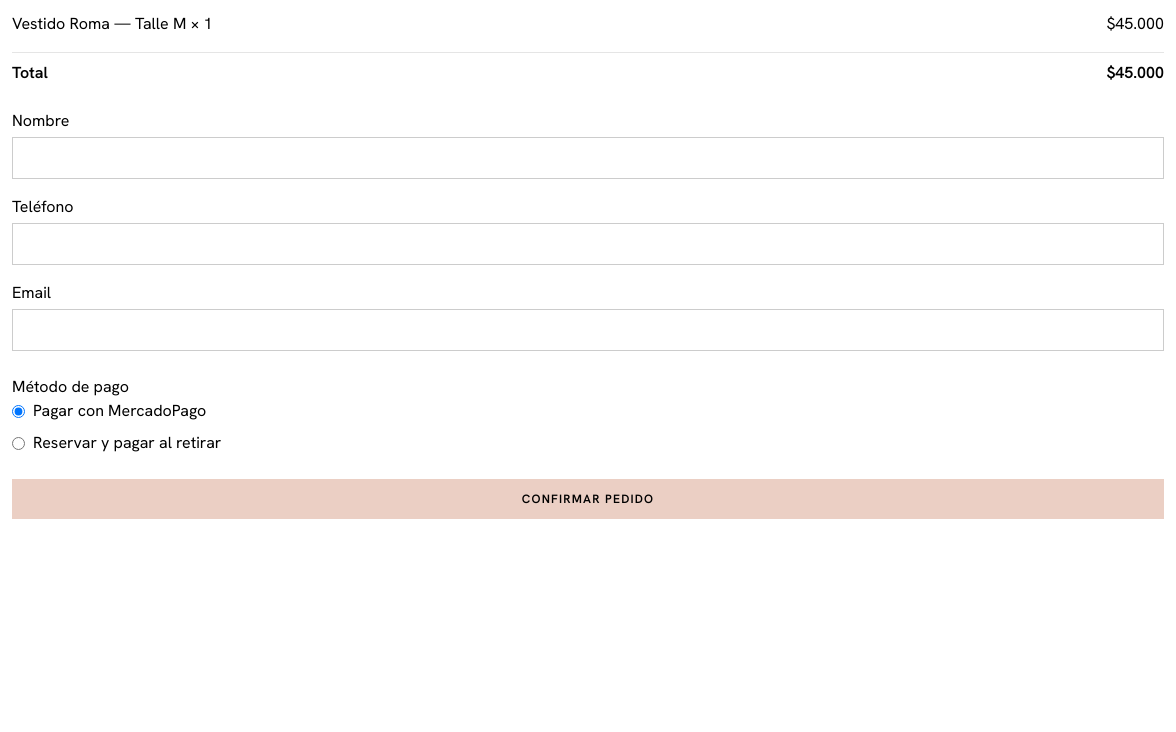
Scenario: CheckoutForm › shows the generic body.message when no returned variantId matches a known line
Type "Ana Pérez" into the field labelled "Nombre".
click(588, 158); type("Ana Pérez")  # box [12, 137, 1164, 179]
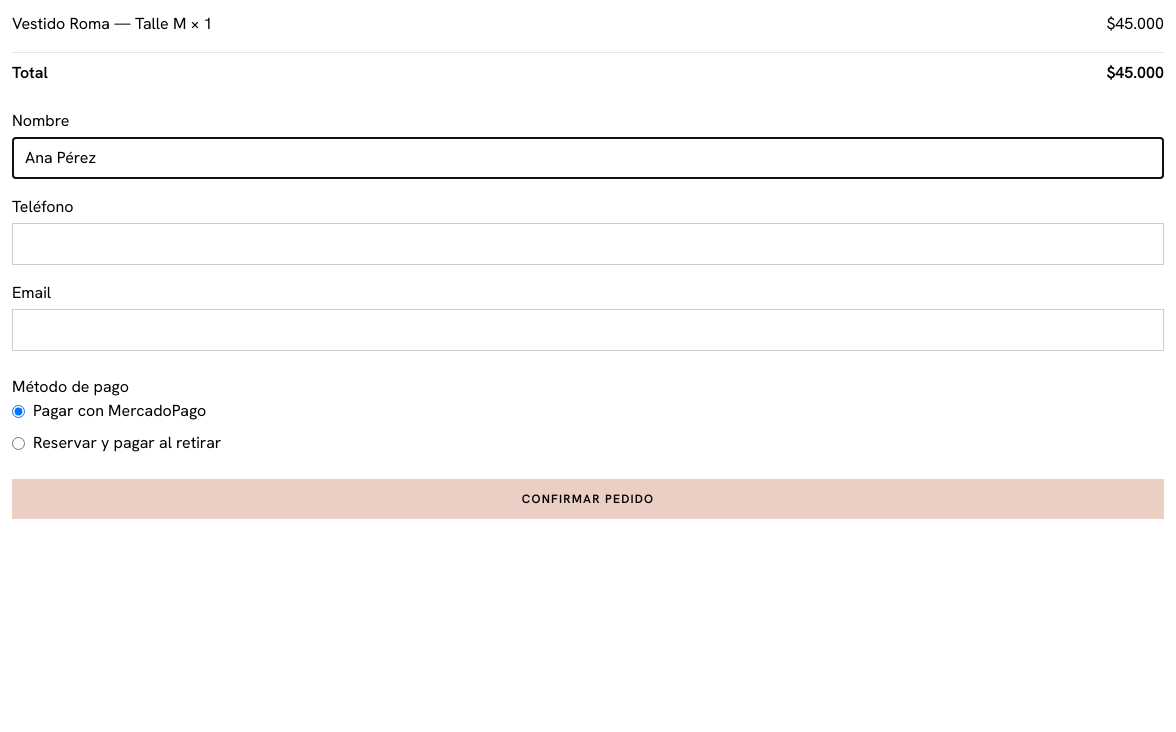
Type "3815551234" into the field labelled "Teléfono".
click(588, 244); type("3815551234")  # box [12, 223, 1164, 265]
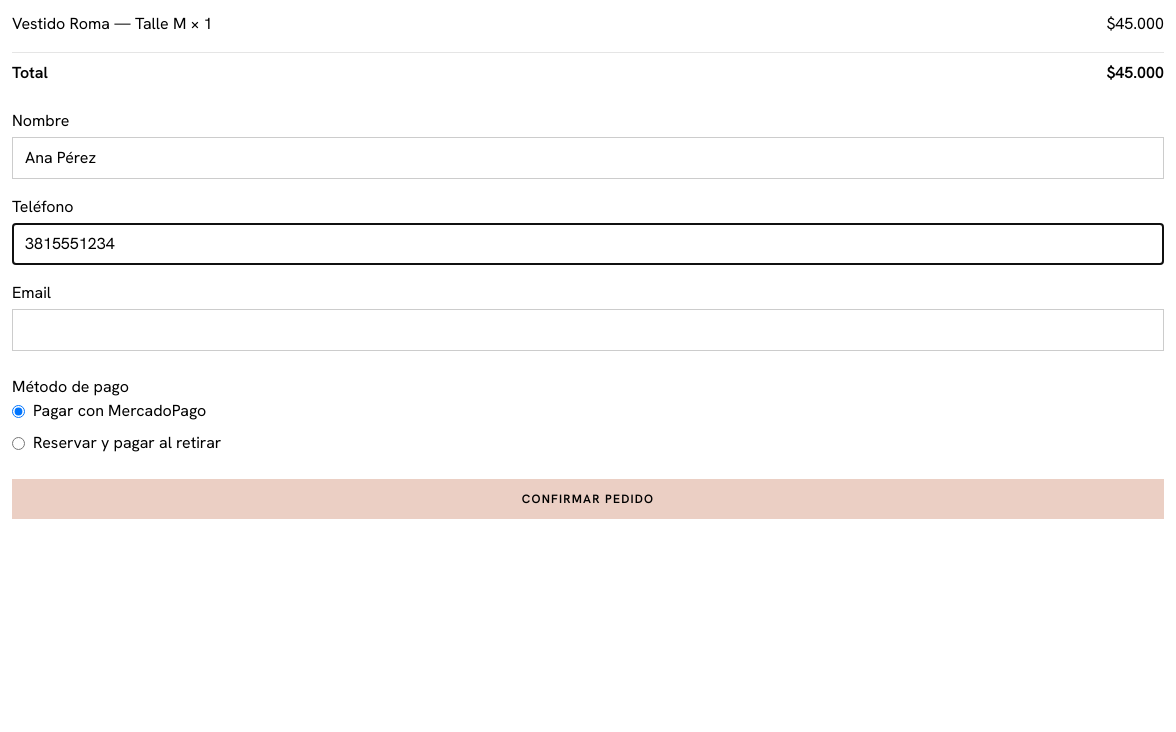
Type "ana@example.com" into the field labelled "Email".
click(588, 330); type("ana@example.com")  # box [12, 309, 1164, 351]
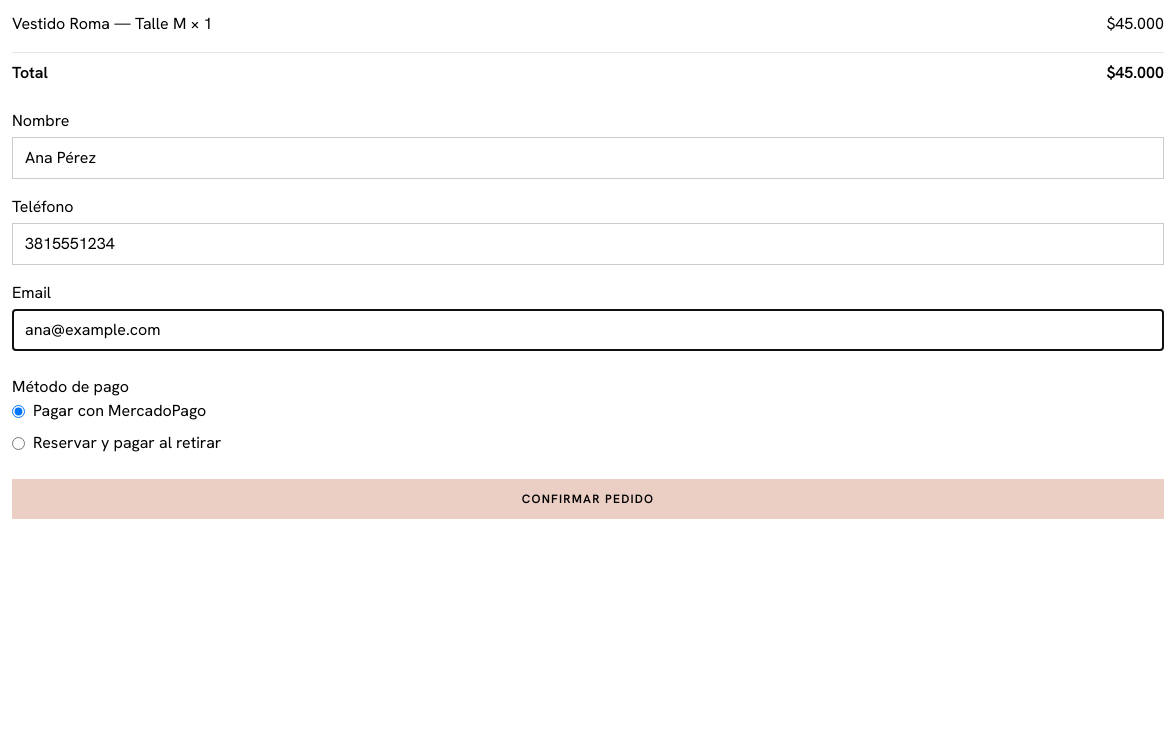
Click the radio button labelled "Pagar con MercadoPago".
click(18, 411)  # box [12, 404, 25, 418]
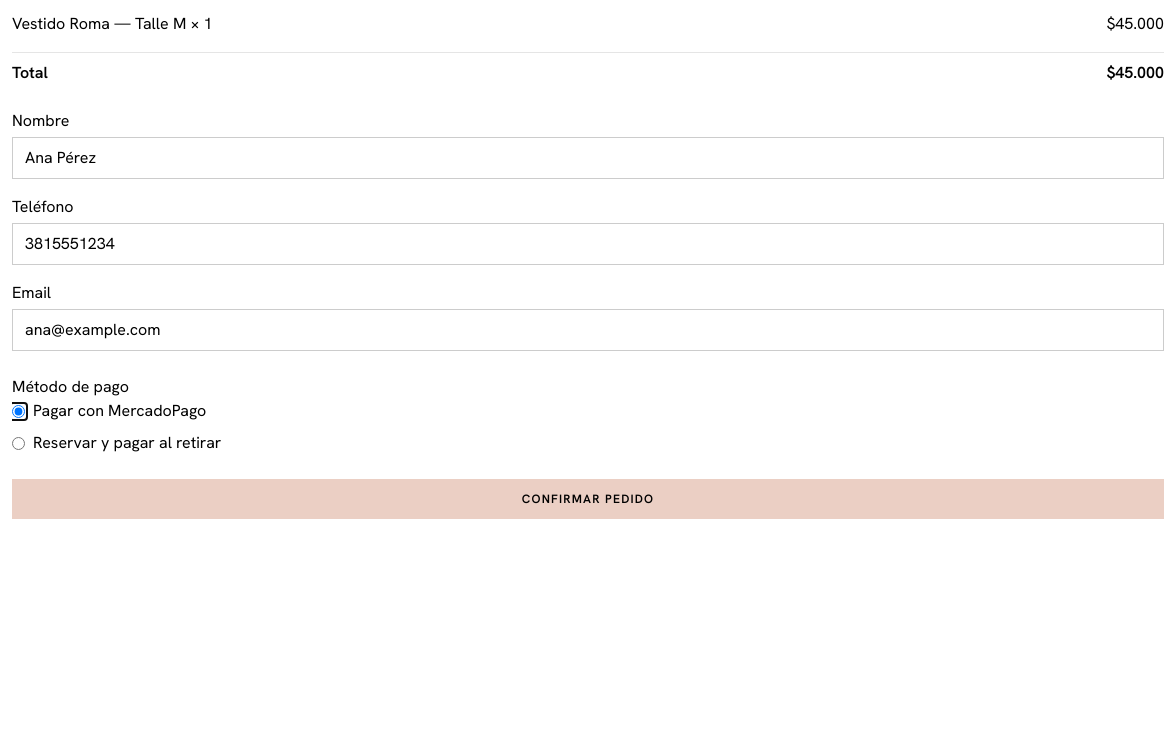
Click the button "Confirmar pedido".
click(588, 499)  # box [12, 479, 1164, 519]
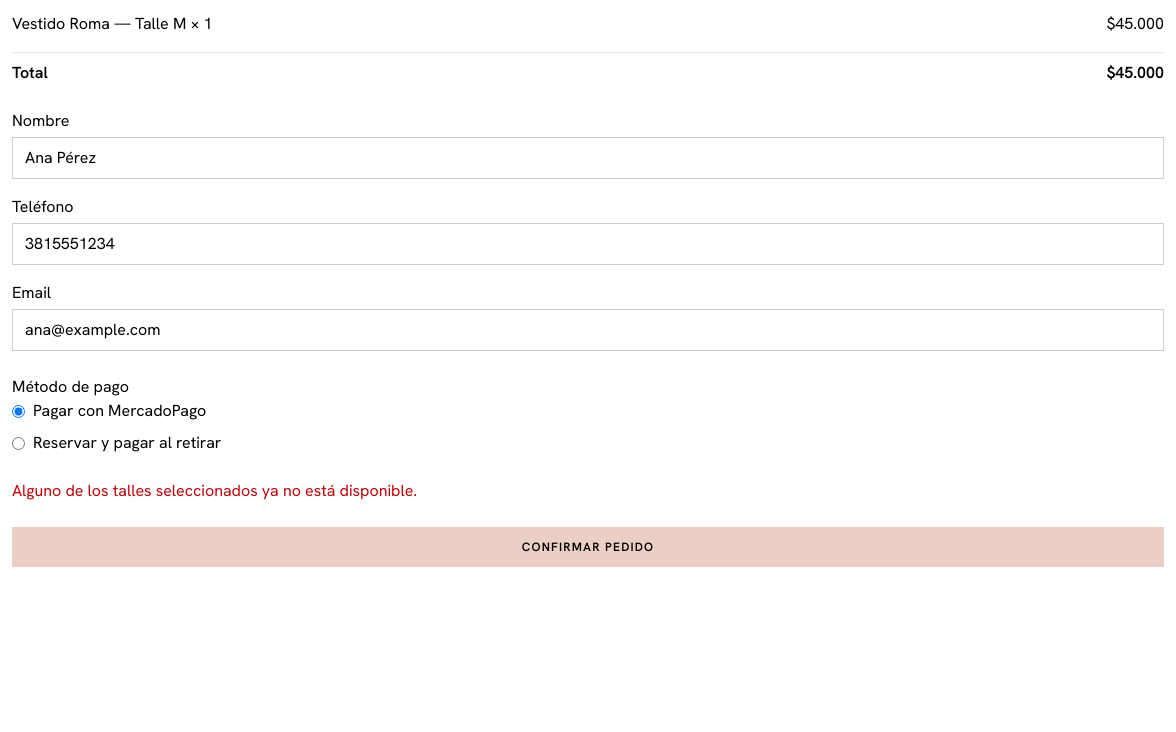
Check: the text "Alguno de los talles seleccionados ya no está disponible." is shown, box [12, 480, 417, 501]
